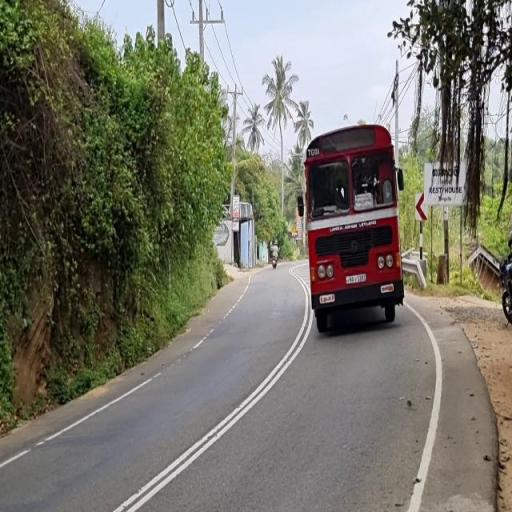double_white_line: (110, 269, 310, 512)
